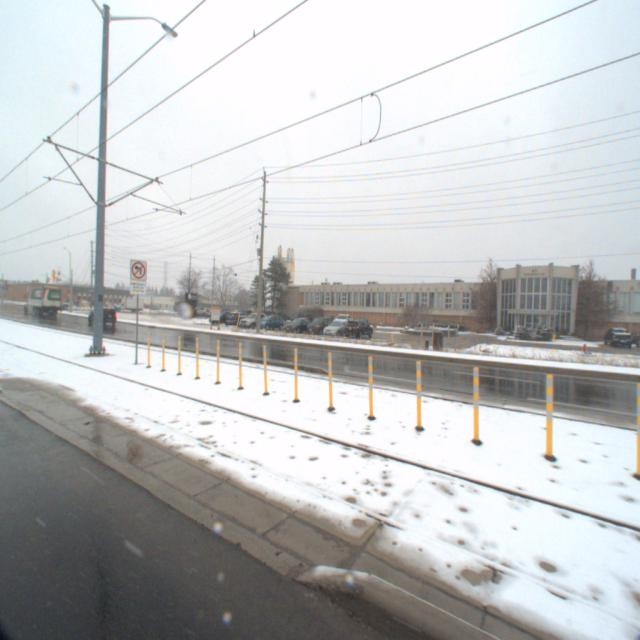Car: (597, 328, 632, 350), (233, 314, 269, 332), (300, 318, 332, 338), (339, 322, 370, 342), (318, 322, 350, 341), (280, 319, 312, 336), (250, 317, 282, 334), (220, 314, 253, 330)
Truck: (18, 286, 60, 318), (108, 300, 142, 315)
